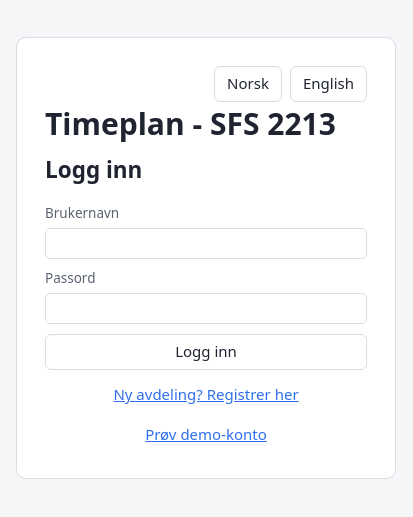
InnloggingPanel › bytter språk til engelsk
Click the button "English" at (328, 84), box [290, 66, 367, 102]
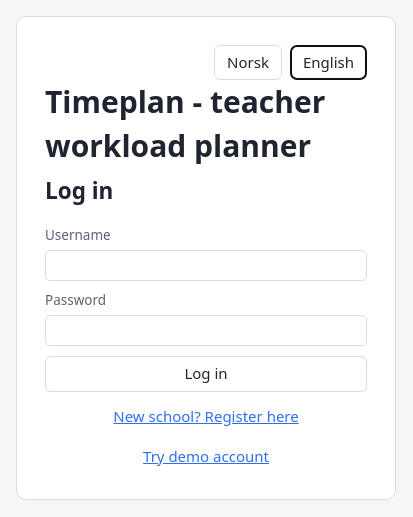
Expected: the heading "Log in" is shown, [45, 175, 113, 206]
